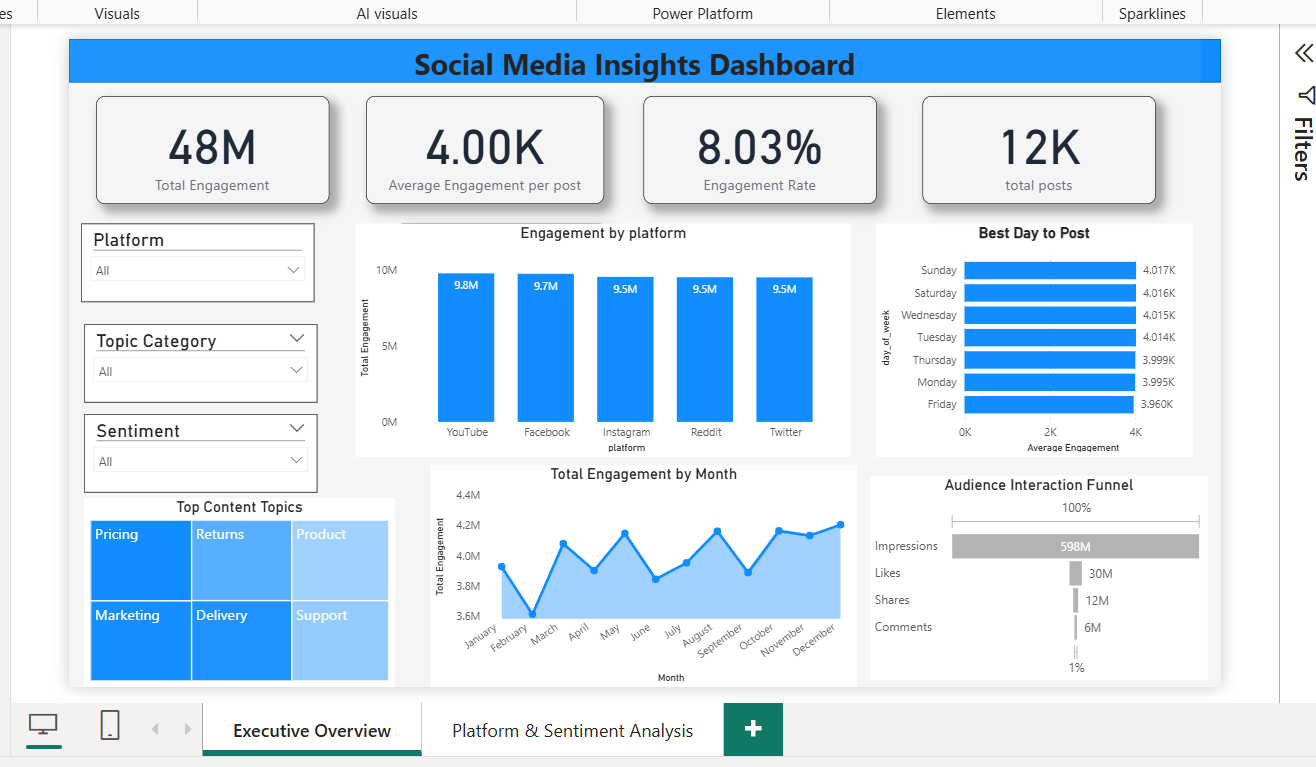

What the dashboard file says about the page in this screenshot:
{"tool":"powerbi","page":{"name":"Page 1","canvas":[1280,720],"ordinal":0},"visuals":[{"type":"shape","box":[0,0,1280,48.3],"z":0},{"type":"card","fields":{"Values":["social_media_real social_posts.Total Engagement"]},"box":[241.7,63.3,240,120],"z":1000},{"type":"card","fields":{"Values":["social_media_real social_posts.total posts"]},"box":[361.1,205.2,237,119.3],"z":2000},{"type":"card","fields":{"Values":["social_media_real social_posts.Average Engagement"]},"box":[505,63.3,265,120],"z":3000},{"type":"card","fields":{"Values":["social_media_real social_posts.Engagement Rate"]},"box":[798.3,63.3,230,120],"z":4000},{"type":"clusteredColumnChart","title":" Engagement by platform","fields":{"Category":["social_media_real social_posts.platform"],"Y":["social_media_real social_posts.Total Engagement"]},"box":[287.9,202,351.5,259.3],"z":5000},{"type":"clusteredBarChart","title":" Post  by Platform","fields":{"Category":["social_media_real social_posts.platform"],"Y":["CountNonNull(social_media_real social_posts.post_id)"]},"box":[310.2,485.1,327.7,233.8],"z":6000},{"type":"donutChart","title":"Share of Engagement Rate Contribution","fields":{"Category":["social_media_real social_posts.platform"],"Y":["Avg(social_media_real social_posts.engagement_rate)"]},"box":[656.9,208.4,283.1,227.5],"z":7000},{"type":"clusteredBarChart","title":"Best Day to Post","fields":{"Category":["social_media_real social_posts.day_of_week"],"Y":["social_media_real social_posts.Average Engagement"]},"box":[976.7,461.7,303.3,258.3],"z":8000},{"type":"treemap","title":"Top Content Topics","fields":{"Group":["social_media_real social_posts.topic_category"],"Values":["social_media_real social_posts.Total Engagement"]},"box":[0,510.6,310.2,210],"z":9000},{"type":"tableEx","title":"Top viral post ","fields":{"Values":["social_media_real social_posts.post_id","social_media_real social_posts.platform","social_media_real social_posts.Total Engagement"]},"box":[948.3,193.3,331.7,258.3],"z":10000},{"type":"slicer","fields":{"Values":["social_media_real social_posts.platform"]},"box":[11.1,47.7,194.1,82.7],"z":11000},{"type":"slicer","fields":{"Values":["social_media_real social_posts.sentiment_label"]},"box":[8.3,225,193.3,81.7],"z":12000},{"type":"slicer","fields":{"Values":["social_media_real social_posts.topic_category"]},"box":[11.1,141.6,194.1,74.8],"z":13000},{"type":"textbox","box":[0,0,1258.3,63.3],"z":14000},{"type":"funnel","title":"Audience Interaction Funnel","fields":{"Y":["Sum(social_media_real social_posts.impressions)","Sum(social_media_real social_posts.likes)","Sum(social_media_real social_posts.shares)","Sum(social_media_real social_posts.comments)"]},"box":[0,308.3,280,191.7],"z":15000},{"type":"areaChart","fields":{"Category":["social_media_real social_posts.post_date.Variation.Date Hierarchy.Month"],"Y":["social_media_real social_posts.Total Engagement"]},"box":[639.4,451.7,326.1,268.8],"z":16000},{"type":"card","fields":{"Values":["social_media_real social_posts.total posts"]},"box":[1040.3,63.6,240.2,119.3],"z":17000}]}

Visuals, with their boxes on the page's 1280x720 design canvas (x1, y1, x2, y2). These are canvas units, not pixel positions in the 1316x767 screenshot, which may show the page scaled, cropped or inside an application window:
shape: x1=0 y1=0 x2=1280 y2=48
card - social_media_real social_posts.Total Engagement: x1=242 y1=63 x2=482 y2=183
card - social_media_real social_posts.total posts: x1=361 y1=205 x2=598 y2=324
card - social_media_real social_posts.Average Engagement: x1=505 y1=63 x2=770 y2=183
card - social_media_real social_posts.Engagement Rate: x1=798 y1=63 x2=1028 y2=183
" Engagement by platform" clusteredColumnChart: x1=288 y1=202 x2=639 y2=461
" Post  by Platform" clusteredBarChart: x1=310 y1=485 x2=638 y2=719
"Share of Engagement Rate Contribution" donutChart: x1=657 y1=208 x2=940 y2=436
"Best Day to Post" clusteredBarChart: x1=977 y1=462 x2=1280 y2=720
"Top Content Topics" treemap: x1=0 y1=511 x2=310 y2=721
"Top viral post " tableEx: x1=948 y1=193 x2=1280 y2=452
slicer - social_media_real social_posts.platform: x1=11 y1=48 x2=205 y2=130
slicer - social_media_real social_posts.sentiment_label: x1=8 y1=225 x2=202 y2=307
slicer - social_media_real social_posts.topic_category: x1=11 y1=142 x2=205 y2=216
textbox: x1=0 y1=0 x2=1258 y2=63
"Audience Interaction Funnel" funnel: x1=0 y1=308 x2=280 y2=500
areaChart - social_media_real social_posts.post_date.Variation.Date Hierarchy.Month x social_media_real social_posts.Total Engagement: x1=639 y1=452 x2=966 y2=720
card - social_media_real social_posts.total posts: x1=1040 y1=64 x2=1280 y2=183
